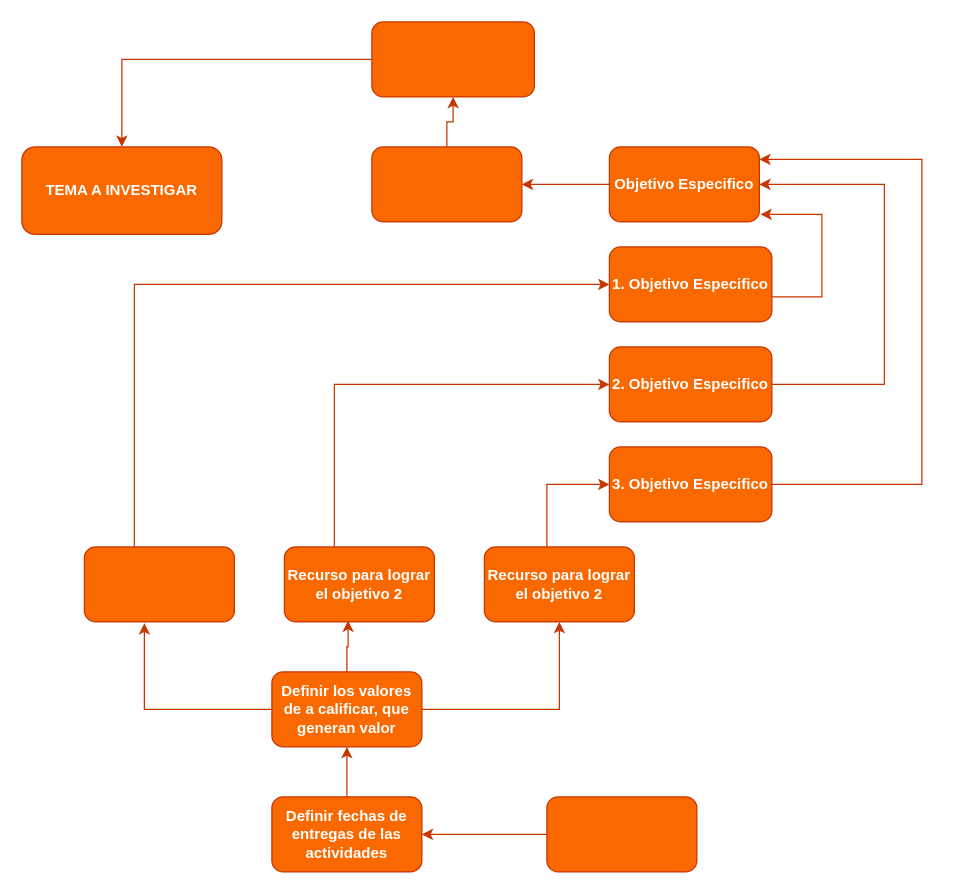
Some shapes in this 954 by 894 pixel diagram are drawn without their labels. Each missing label, with the box of its shape:
Calificación de las evidencias: (546, 796, 697, 872)
Descripción Contexto General: (371, 21, 534, 97)
Objetivo General: (371, 146, 522, 222)
Recurso para lograr el objetivo 1: (83, 546, 234, 622)
